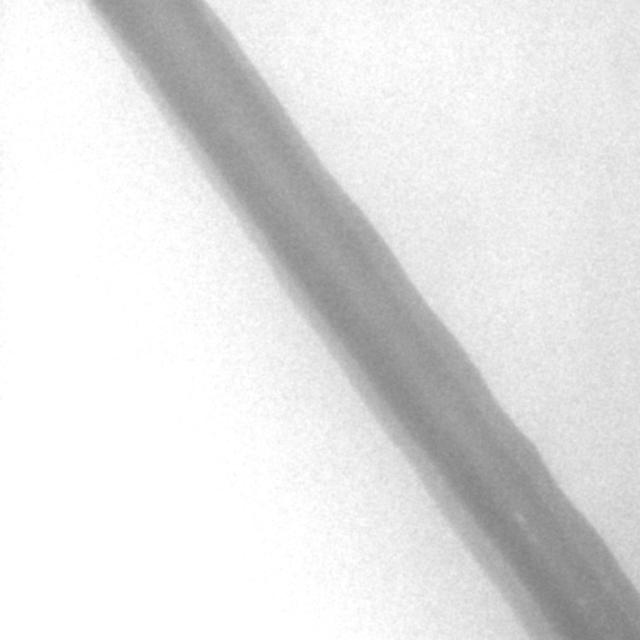air hole: (513, 511, 525, 525)
